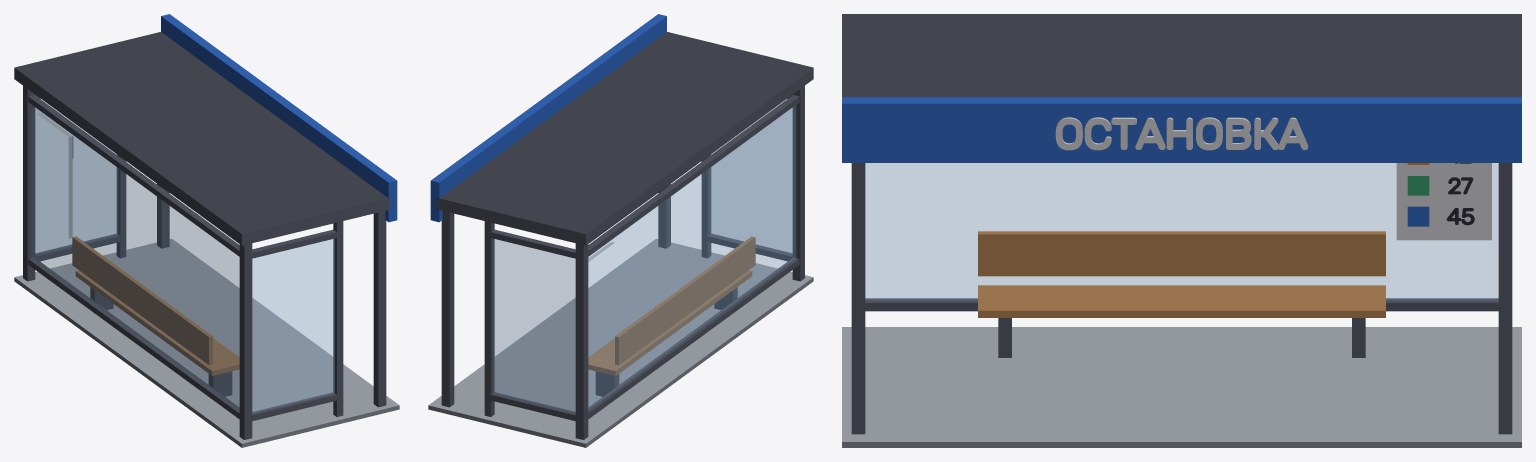
The model's file is bus_stop.glb.
3 renders of one model, left to right at view 1: azimuth 30°, elevation 25°; view 2: azimuth 150°, elevation 25°; view 3: azimuth 270°, elevation 25°, orthographic. The views are drawn at different scales.
Parts seen in each view (by area): view 1: BusStop, Glass; view 2: BusStop, Glass; view 3: BusStop, Glass.
Part boxes in pixels (bbox=[...]): BusStop: bbox=[14, 14, 399, 447]; Glass: bbox=[32, 99, 334, 413]; BusStop: bbox=[428, 14, 813, 447]; Glass: bbox=[493, 99, 795, 413]; BusStop: bbox=[842, 14, 1521, 447]; Glass: bbox=[865, 163, 1498, 300].
Size of the model in its own units: 2 by 2.78 by 5.
